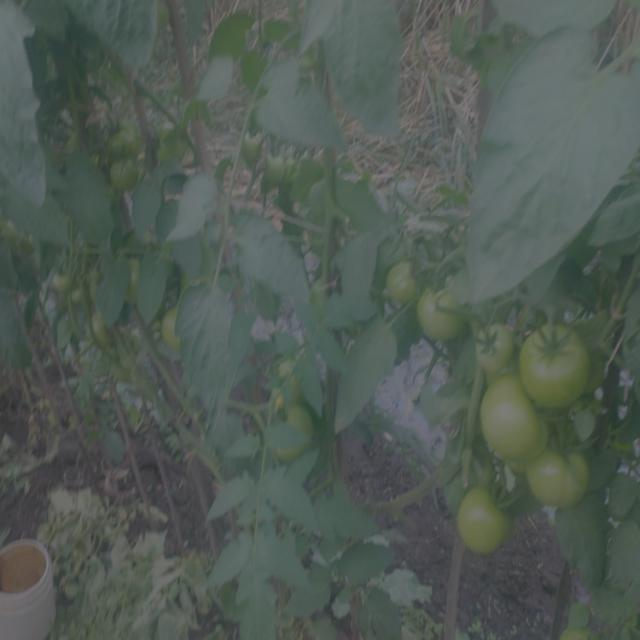tomato: (523, 326, 593, 413), (482, 378, 548, 456), (452, 482, 515, 555), (526, 445, 592, 513), (471, 322, 519, 374), (424, 288, 469, 343), (265, 402, 311, 451), (156, 306, 192, 353), (385, 259, 425, 301), (158, 134, 200, 173), (106, 119, 143, 157), (275, 357, 308, 397), (110, 160, 145, 196), (120, 251, 149, 288), (265, 150, 293, 187), (90, 308, 116, 347), (310, 273, 334, 313), (3, 217, 28, 254), (556, 617, 596, 640), (48, 259, 74, 293), (85, 267, 106, 293)
